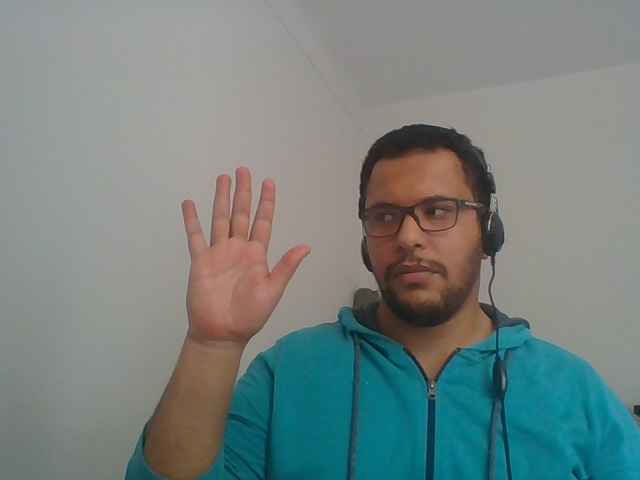hello: (149, 145, 317, 408)
